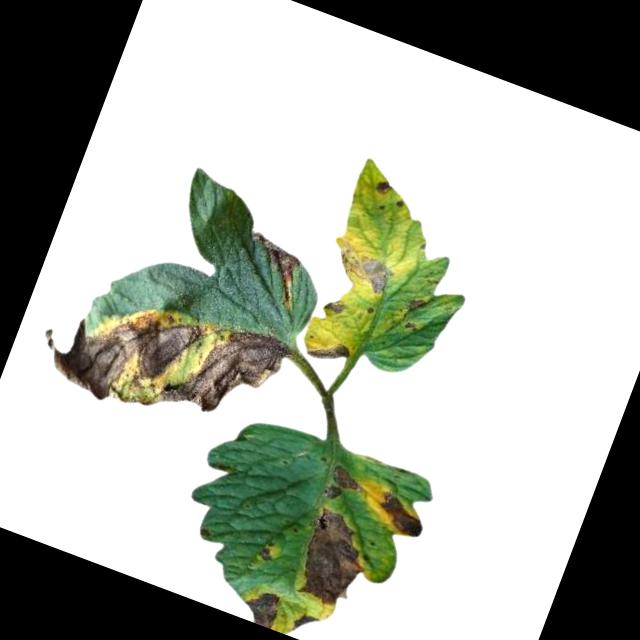Early_blight: (29, 260, 291, 456), (285, 503, 380, 614), (231, 229, 313, 314), (330, 245, 397, 299), (368, 488, 430, 542), (237, 583, 285, 628), (321, 463, 365, 508), (305, 334, 352, 372), (290, 607, 321, 639), (254, 537, 278, 565), (405, 295, 427, 319), (372, 177, 396, 199), (323, 296, 345, 316)
